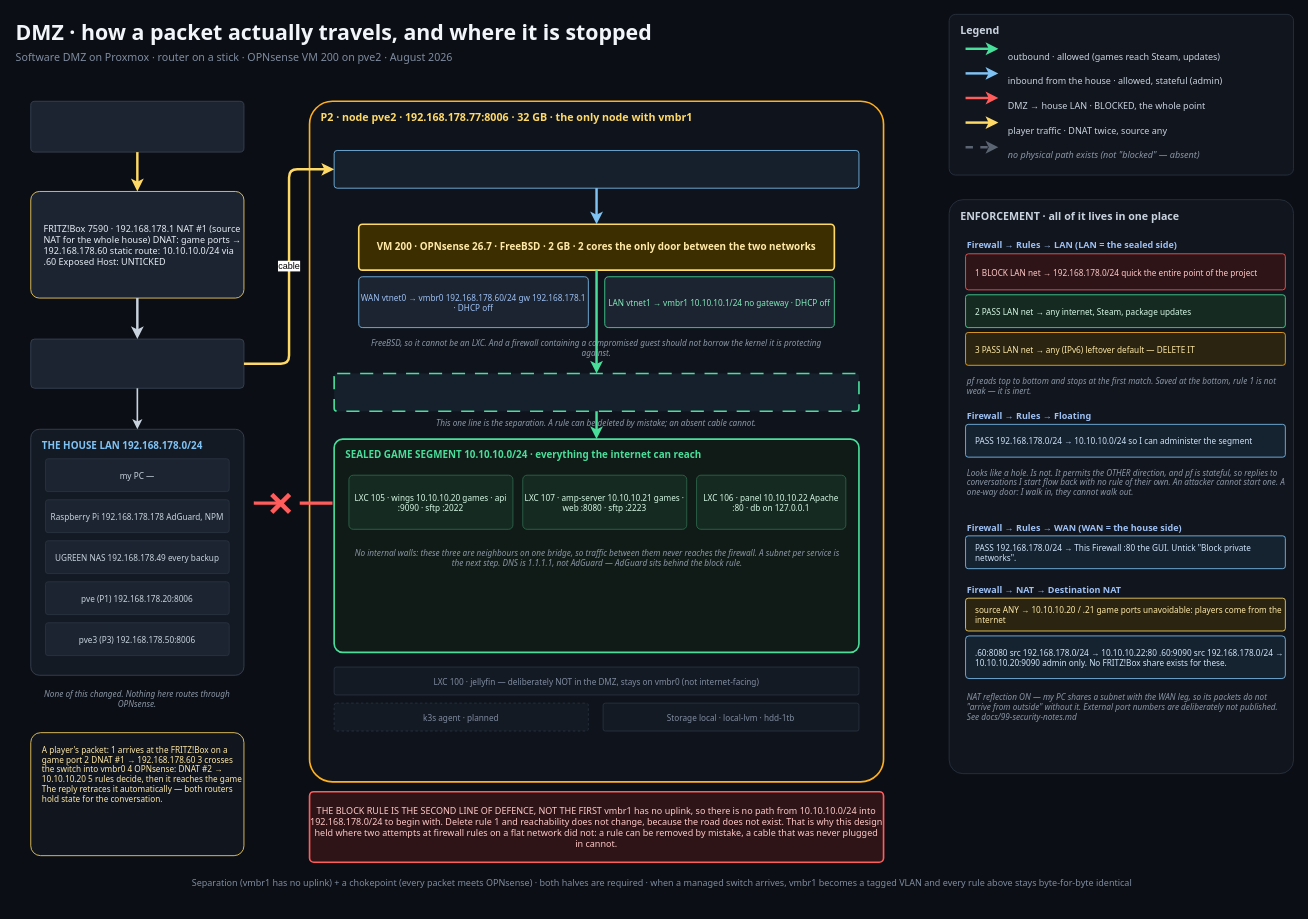
Some shapes in this 1308 by 919 pixel diagram are drawn without their labels. Here are the shapes that lost their labels. From the top down, the centre of each, then its label:
At [137,126]: "INTERNET players · Steam · updates".
At [596,169]: "bridge vmbr0 bridge-ports nic0 ← the real NIC, reaches the house".
At [137,363]: "TP-Link TL-SG108 · unmanaged no VLAN tagging — the reason this DMZ is software".
At [596,392]: "bridge vmbr1 bridge-ports NONE · NO CABLE".
